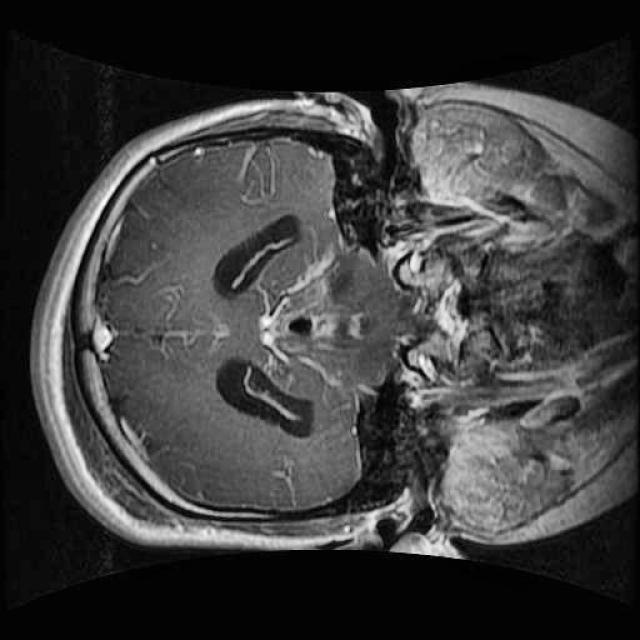Non-Tumor: (240, 226, 372, 406)
